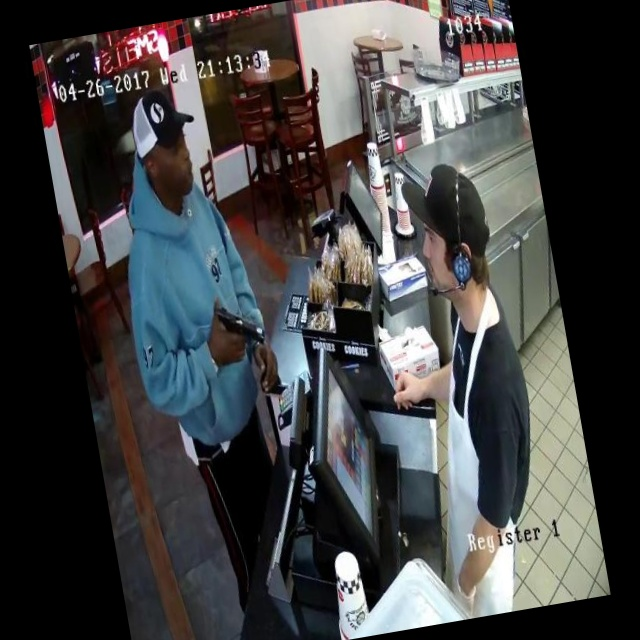gun: (201, 284, 276, 360)
